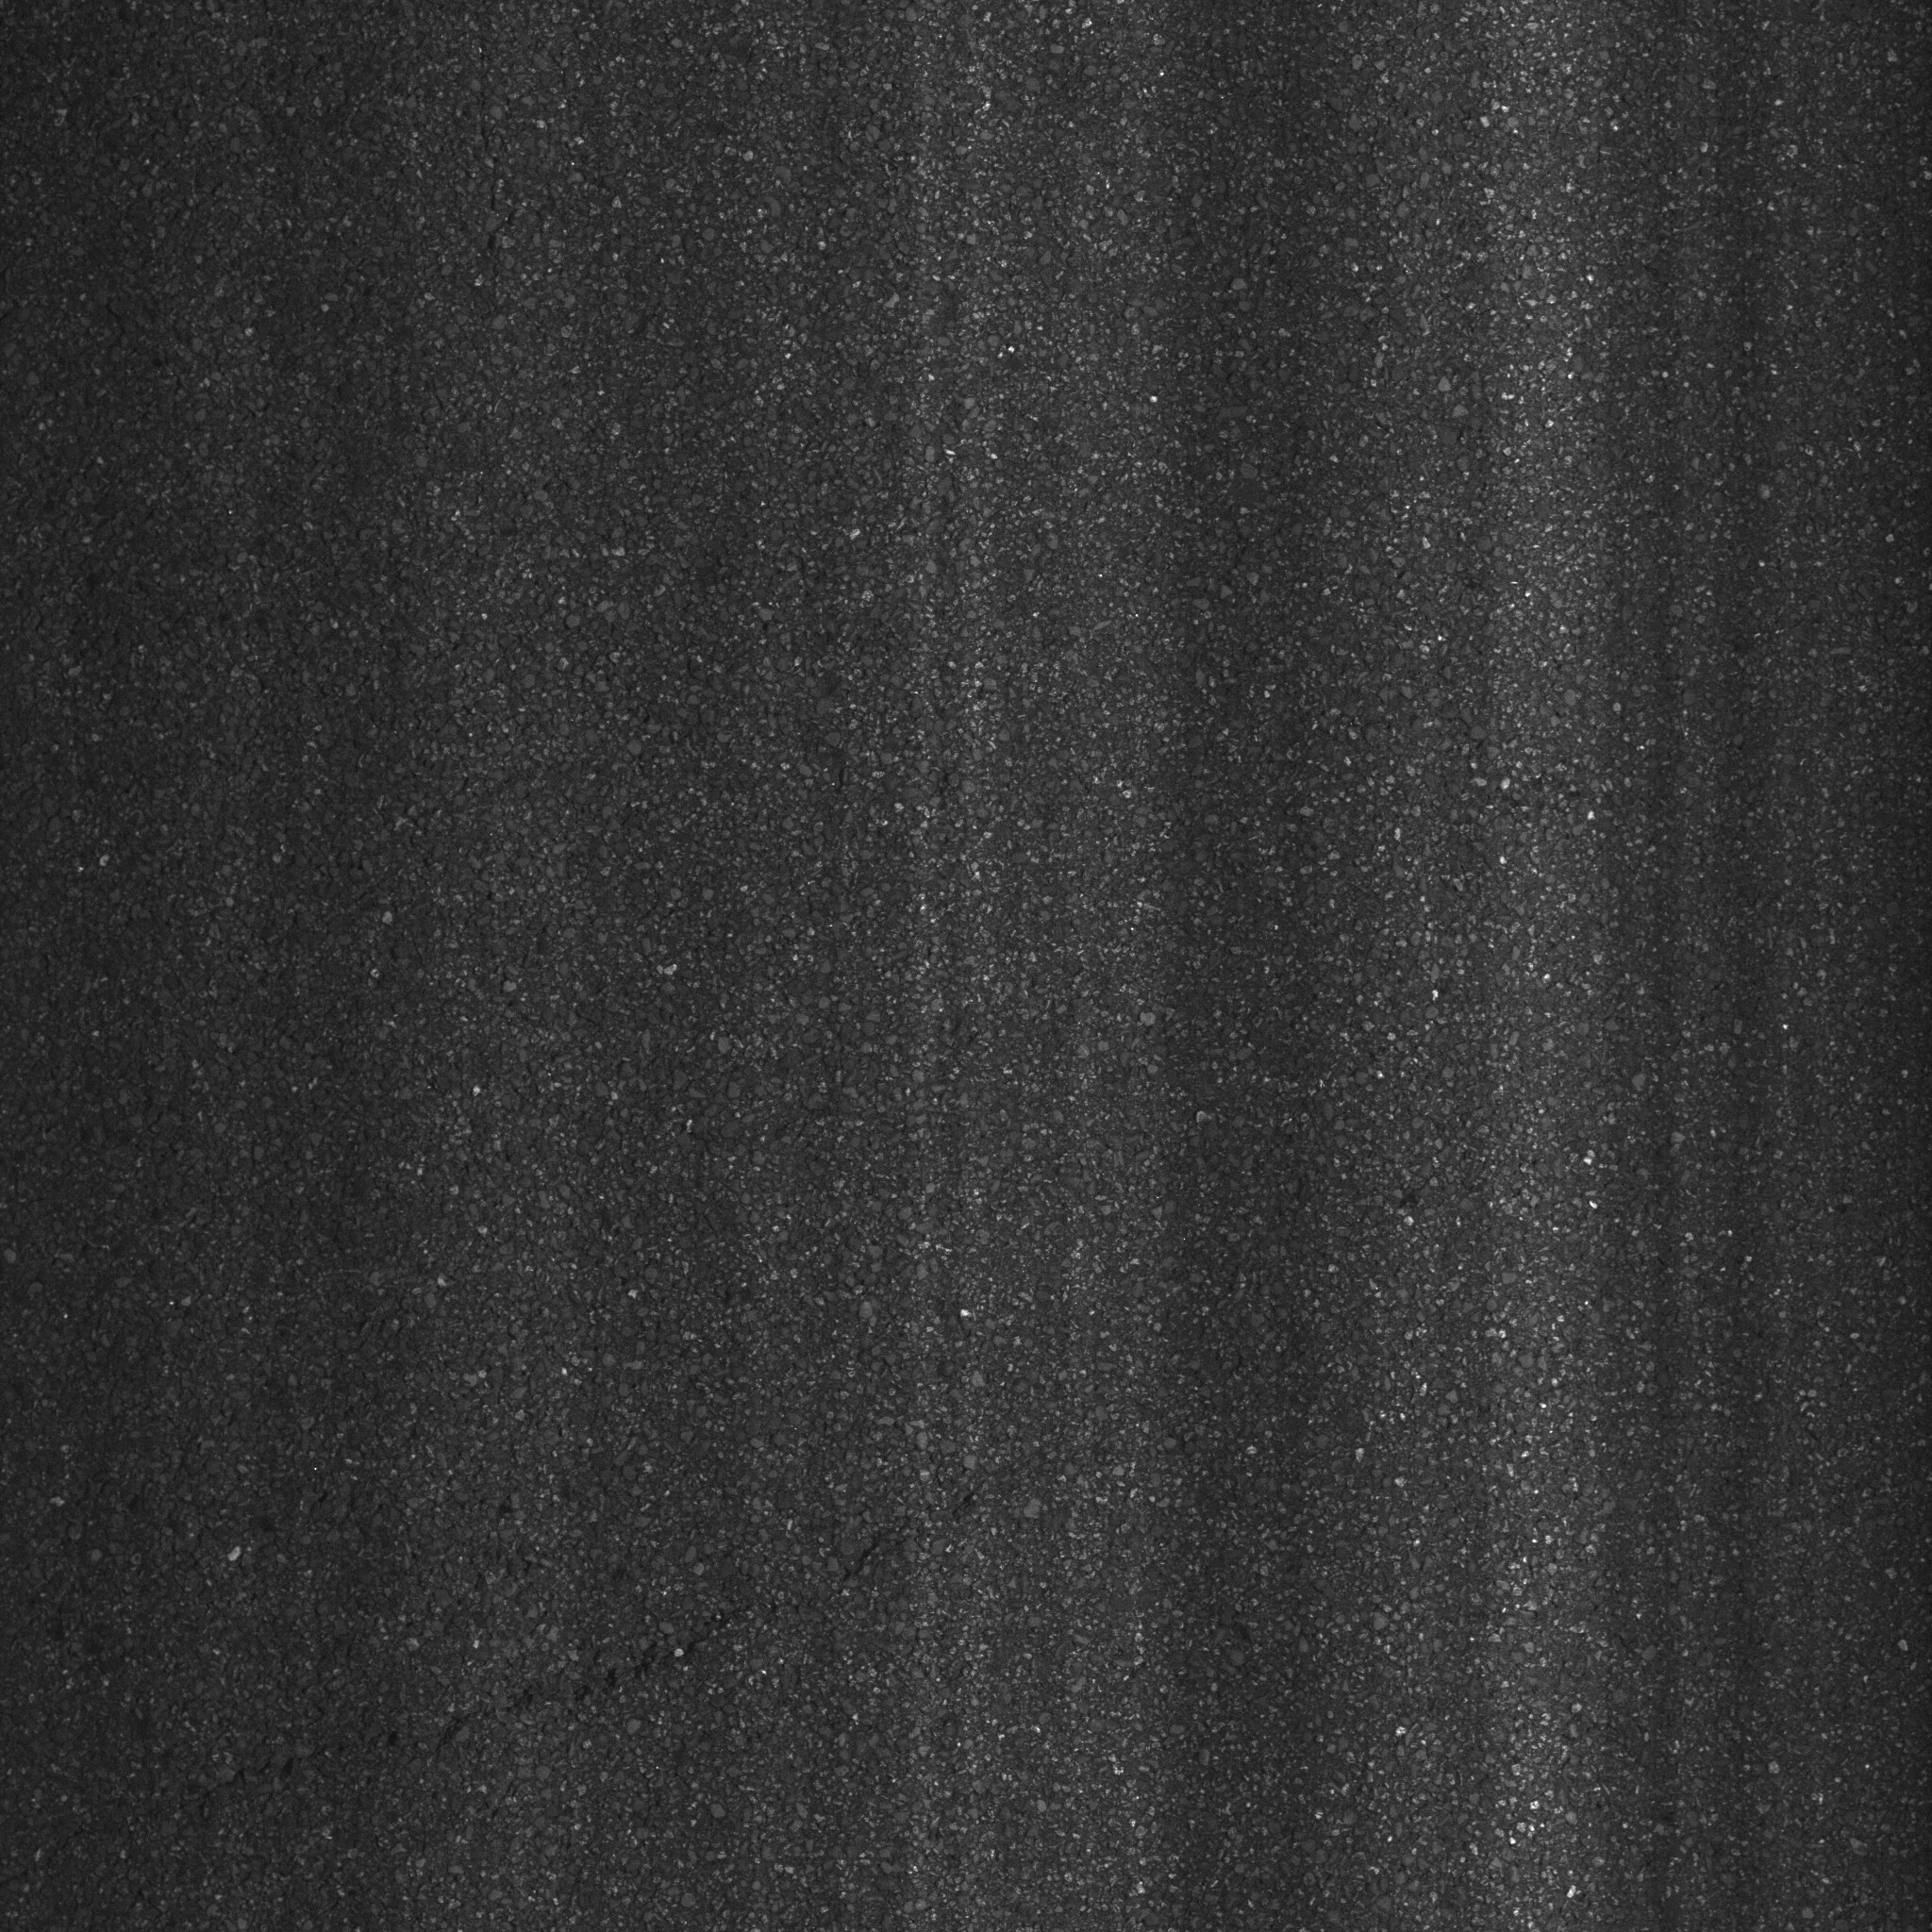transverse: (9, 1424, 1145, 1882)
